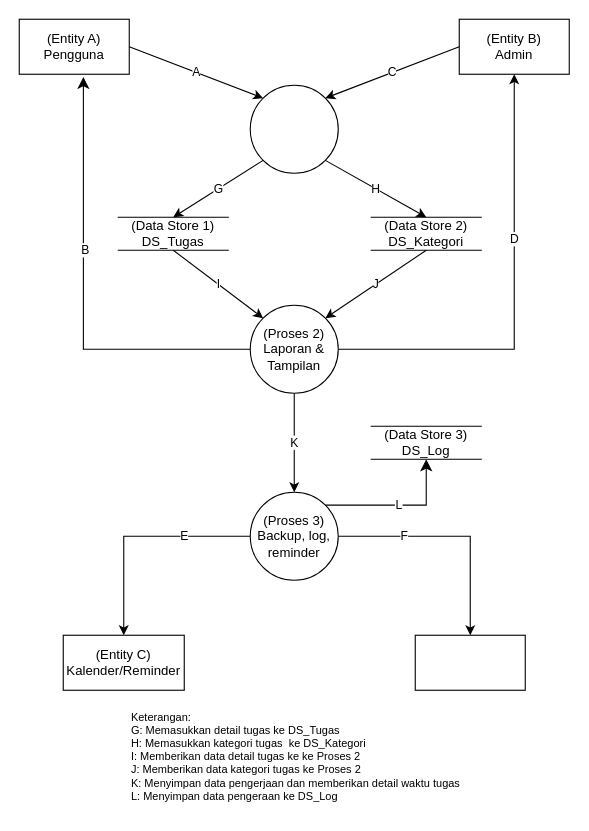
This 589x831 diagram has some shape labels left out. The shapes that lost their labels are listed below. From the top down, each one's centre as x and y in pixels, then its label:
At pixel 293 128: "(Proses 1) Manajemen Tugas".
At pixel 469 662: "(Entity D) System Backup".
